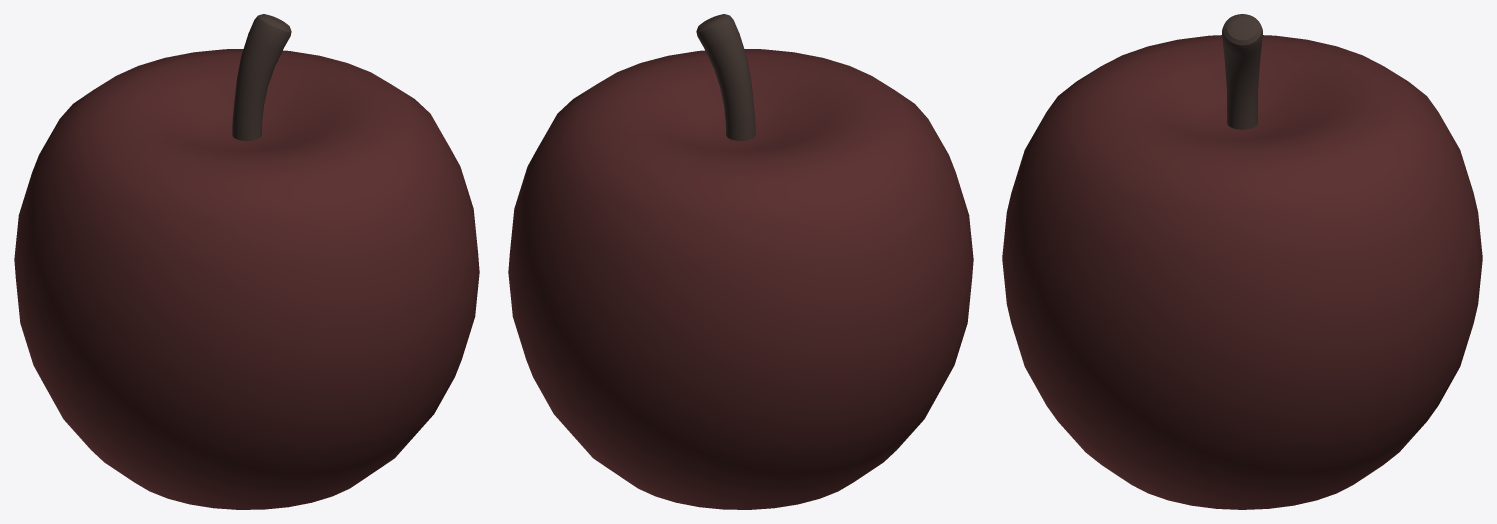
File: Apfel.fbx
3 renders of one model, left to right at view 1: azimuth 30°, elevation 25°; view 2: azimuth 150°, elevation 25°; view 3: azimuth 270°, elevation 25°, orthographic. The views are drawn at different scales.
Visible parts, largest first — view 1: Apfel; view 2: Apfel; view 3: Apfel.
Boxes of the visible parts, <box> form: Apfel: <box>14,14,479,509</box>; Apfel: <box>508,14,973,509</box>; Apfel: <box>1002,14,1482,509</box>.
Bounding box in the file's own units: 200 × 209 × 200.
